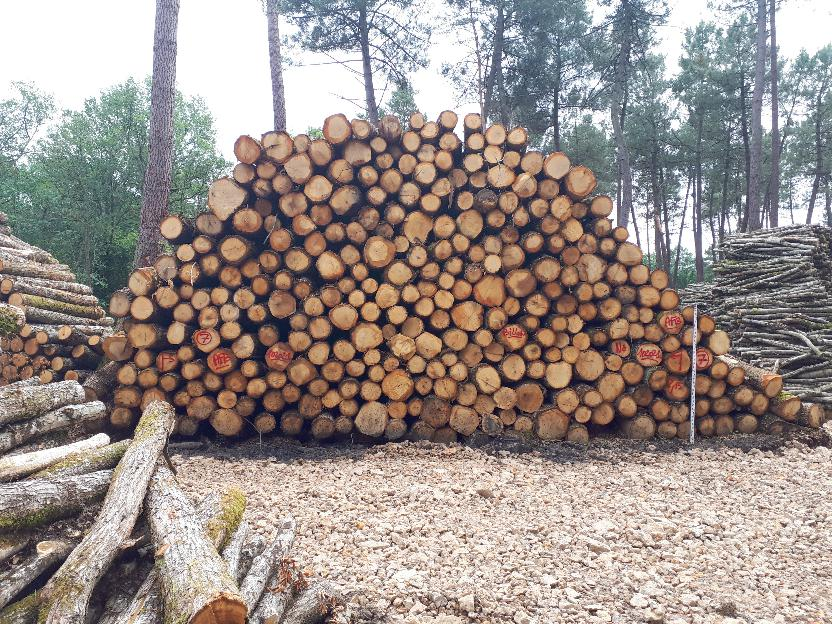etalon: (690, 306, 700, 446)
object: (201, 178, 247, 220), (188, 596, 248, 622), (355, 400, 389, 436), (535, 408, 571, 439), (473, 274, 505, 306), (364, 236, 398, 266), (450, 300, 486, 328), (315, 249, 347, 279), (261, 130, 293, 160), (380, 371, 414, 399), (404, 213, 434, 243), (288, 358, 318, 388), (566, 168, 598, 196), (515, 382, 543, 414), (322, 112, 350, 144), (100, 335, 134, 361), (423, 394, 454, 422), (329, 186, 359, 214), (265, 341, 295, 369), (212, 409, 244, 435), (284, 152, 312, 181), (233, 133, 260, 163), (341, 137, 372, 163), (454, 208, 482, 236), (219, 234, 247, 262), (450, 406, 478, 434), (329, 302, 359, 328), (126, 321, 156, 347), (352, 323, 382, 349), (304, 174, 335, 199), (576, 350, 602, 379), (503, 269, 534, 293), (267, 290, 293, 318), (387, 335, 415, 361), (662, 348, 690, 374), (473, 365, 501, 391), (308, 416, 336, 442), (278, 192, 308, 216), (574, 256, 604, 280), (327, 158, 354, 184), (373, 284, 401, 308), (497, 325, 525, 349), (140, 388, 168, 412), (519, 149, 547, 173), (194, 329, 223, 352), (501, 352, 524, 381), (356, 205, 381, 231), (298, 392, 324, 417), (658, 309, 682, 336), (626, 414, 654, 437), (233, 209, 262, 231), (283, 248, 309, 272), (535, 258, 561, 282), (207, 348, 233, 372), (546, 360, 570, 386), (600, 373, 624, 399), (554, 389, 580, 413), (376, 113, 400, 139), (195, 211, 223, 233), (708, 328, 730, 356), (544, 154, 572, 176), (306, 204, 336, 224), (378, 168, 402, 192), (499, 244, 523, 268), (416, 332, 440, 356), (460, 342, 484, 366), (280, 411, 304, 435), (308, 139, 332, 163), (474, 187, 500, 209), (588, 196, 614, 218), (106, 290, 128, 316), (233, 333, 255, 359), (187, 397, 213, 419), (510, 175, 538, 195), (290, 214, 318, 234), (130, 266, 150, 294), (307, 317, 335, 337), (488, 165, 516, 185), (387, 263, 412, 285), (113, 385, 139, 406), (616, 244, 646, 262), (344, 222, 366, 246), (154, 256, 178, 278), (636, 284, 660, 306), (320, 284, 342, 308), (129, 296, 153, 318), (622, 360, 644, 384), (494, 386, 518, 408), (630, 386, 654, 408), (472, 391, 494, 415), (442, 330, 468, 350), (636, 344, 662, 364), (456, 381, 476, 407), (219, 264, 242, 286), (616, 396, 638, 419), (176, 416, 200, 437), (408, 419, 432, 440), (551, 196, 573, 218), (383, 205, 405, 227), (160, 216, 182, 238), (270, 228, 292, 250), (197, 306, 219, 328), (116, 363, 138, 385), (724, 364, 746, 386), (399, 129, 421, 151), (407, 243, 427, 267), (154, 286, 178, 306), (526, 295, 550, 315), (166, 322, 190, 342), (332, 341, 356, 361), (258, 249, 278, 272), (694, 347, 714, 370), (480, 417, 504, 436), (435, 379, 460, 397), (784, 396, 802, 421), (498, 189, 518, 211), (434, 215, 454, 237), (561, 219, 583, 239), (524, 232, 544, 254), (304, 234, 326, 254), (615, 286, 635, 308), (257, 324, 279, 344), (288, 330, 310, 350), (156, 351, 178, 371), (338, 376, 360, 396), (385, 419, 407, 439), (484, 123, 506, 143), (482, 144, 504, 164), (356, 164, 378, 184), (396, 183, 420, 201), (322, 224, 346, 242), (178, 264, 202, 282), (400, 316, 424, 334), (666, 380, 690, 398), (263, 390, 287, 408), (807, 402, 825, 426), (736, 414, 760, 432), (112, 407, 132, 428), (512, 204, 531, 226), (650, 398, 668, 421), (182, 379, 206, 396), (542, 178, 562, 198), (578, 232, 598, 252), (433, 238, 453, 258), (422, 261, 442, 281), (606, 262, 626, 282), (464, 263, 484, 283), (649, 269, 669, 289), (210, 284, 230, 304), (660, 288, 680, 308), (234, 288, 254, 308), (601, 298, 621, 318), (486, 308, 506, 328), (430, 309, 450, 329), (308, 343, 328, 363), (690, 375, 710, 395), (254, 414, 274, 434), (514, 415, 534, 435), (352, 118, 372, 138), (416, 142, 436, 162), (414, 162, 434, 182), (234, 163, 254, 183), (250, 178, 272, 196), (648, 368, 666, 390), (765, 375, 783, 397), (389, 400, 407, 422), (255, 160, 277, 178), (392, 230, 408, 254), (132, 348, 152, 367), (583, 388, 603, 407), (592, 404, 612, 423), (716, 415, 736, 434), (484, 250, 501, 272), (534, 328, 556, 345), (568, 426, 590, 443), (486, 211, 509, 227), (272, 173, 292, 191), (368, 185, 388, 203), (528, 198, 548, 216), (500, 224, 518, 244), (341, 244, 361, 262), (628, 264, 648, 282), (452, 279, 472, 297), (575, 282, 593, 302), (485, 341, 503, 361), (448, 361, 466, 381), (322, 388, 340, 408), (217, 390, 237, 408), (696, 416, 714, 436), (655, 420, 675, 438), (507, 126, 527, 144), (398, 153, 418, 171), (448, 168, 468, 186), (434, 176, 450, 198), (322, 363, 344, 379), (220, 321, 238, 340), (180, 360, 199, 378), (360, 380, 379, 398), (751, 395, 769, 414), (427, 361, 447, 378), (308, 377, 328, 394), (246, 379, 266, 396), (434, 424, 454, 441), (439, 109, 459, 126), (219, 303, 240, 319), (262, 214, 280, 232), (594, 218, 612, 236), (452, 234, 470, 252), (176, 243, 194, 261), (418, 280, 436, 298), (294, 280, 312, 298), (402, 284, 420, 302), (348, 288, 366, 306), (434, 289, 452, 307), (416, 297, 434, 315), (360, 302, 378, 320), (645, 323, 663, 341), (590, 328, 608, 346), (414, 375, 432, 393), (710, 379, 728, 397), (79, 387, 97, 405), (439, 131, 457, 149), (457, 190, 473, 210), (252, 198, 272, 214), (548, 231, 564, 251), (482, 234, 502, 250), (575, 302, 595, 318), (172, 303, 192, 319), (288, 314, 308, 330), (547, 314, 567, 330), (607, 320, 627, 336), (574, 330, 590, 350), (404, 356, 424, 372), (709, 360, 729, 376), (137, 369, 157, 385), (267, 370, 287, 386), (225, 374, 245, 390), (294, 132, 310, 152), (387, 142, 403, 162), (554, 296, 576, 310), (712, 398, 734, 412), (604, 355, 622, 372), (468, 246, 487, 262), (691, 399, 710, 415), (670, 404, 689, 420), (435, 151, 452, 168), (465, 154, 482, 171), (572, 200, 588, 218), (192, 236, 210, 252), (202, 255, 218, 273), (444, 256, 462, 272), (242, 259, 258, 277), (562, 267, 580, 283), (274, 272, 290, 290), (252, 276, 268, 294), (191, 290, 209, 306), (304, 296, 320, 314), (248, 304, 264, 322), (389, 306, 407, 322), (522, 314, 540, 330), (684, 326, 700, 344), (528, 362, 546, 378), (368, 363, 386, 379), (736, 388, 752, 406), (338, 416, 354, 434), (767, 419, 785, 435), (679, 421, 695, 439), (466, 132, 484, 148), (420, 194, 440, 208), (542, 283, 562, 297), (280, 386, 300, 400), (420, 121, 440, 135), (476, 328, 492, 345), (160, 375, 176, 392), (503, 296, 518, 314), (521, 344, 539, 359), (620, 308, 639, 322), (408, 397, 422, 416), (564, 246, 580, 262), (353, 264, 369, 280), (338, 277, 354, 293), (362, 278, 378, 294), (592, 281, 608, 297), (628, 322, 644, 338), (17, 324, 33, 340), (364, 347, 380, 363), (2, 364, 18, 380), (500, 408, 516, 424), (464, 111, 480, 127), (540, 218, 558, 232), (682, 305, 700, 319), (612, 340, 630, 354), (345, 361, 363, 375), (240, 362, 258, 376), (236, 399, 254, 413), (470, 172, 488, 186), (561, 345, 576, 361), (542, 348, 562, 360), (637, 306, 651, 323), (64, 368, 82, 381), (612, 226, 628, 240), (179, 284, 193, 300), (7, 292, 23, 306), (698, 317, 714, 331), (440, 352, 456, 366), (10, 354, 26, 368), (205, 374, 221, 388), (411, 112, 425, 128), (372, 135, 386, 151), (504, 150, 520, 164), (342, 398, 354, 416), (439, 272, 452, 288), (173, 390, 189, 403), (384, 355, 396, 372), (600, 238, 614, 252), (567, 316, 581, 330), (32, 356, 46, 370), (2, 278, 14, 294), (59, 323, 71, 339), (662, 338, 678, 350), (26, 340, 38, 356), (178, 345, 194, 357), (50, 357, 64, 370), (13, 305, 28, 317), (576, 406, 588, 421), (382, 324, 394, 338), (556, 332, 568, 346), (11, 336, 23, 350), (35, 331, 47, 343), (74, 344, 86, 356), (40, 371, 54, 381), (21, 368, 35, 376), (90, 332, 98, 345), (2, 352, 10, 364)
pile: (100, 108, 824, 444)
